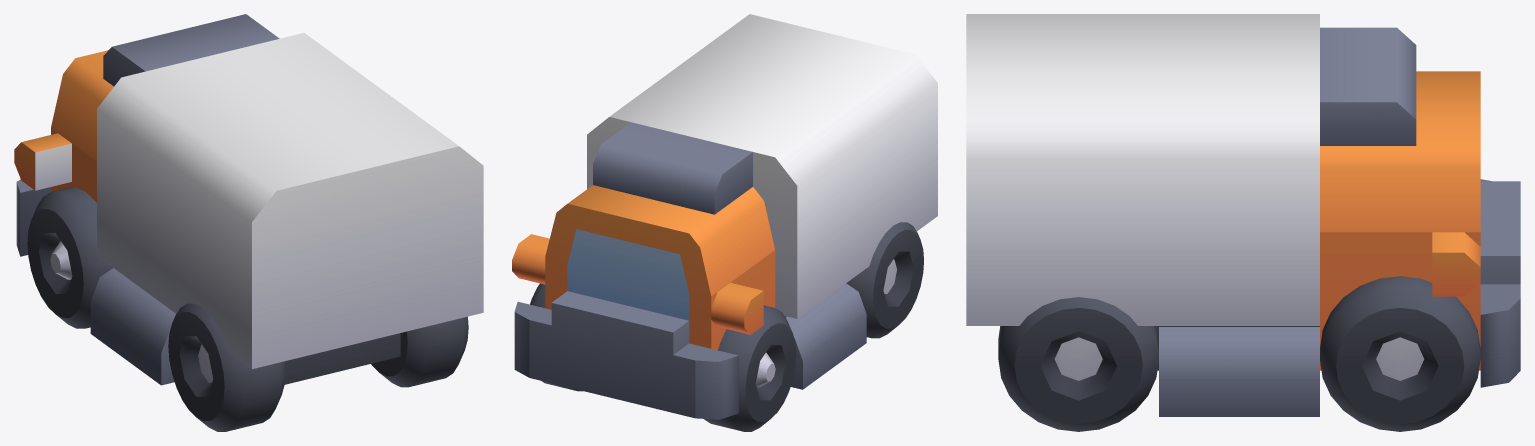
File: vehicle-truck.obj
3 renders of one model, left to right at view 1: azimuth 30°, elevation 25°; view 2: azimuth 150°, elevation 25°; view 3: azimuth 270°, elevation 25°, orthographic. The views are drawn at different scales.
Visible parts, largest first — view 1: vehicle-truck, wheel-bl, wheel-fl, wheel-br; view 2: vehicle-truck, wheel-fl, wheel-bl; view 3: vehicle-truck, wheel-fr, wheel-br.
Part boxes in pixels (x1,y1,x2,y2): vehicle-truck: (14,14,483,385); wheel-bl: (168,303,285,431); wheel-fl: (27,187,112,328); wheel-br: (371,316,468,387); vehicle-truck: (512,14,937,419); wheel-fl: (704,305,796,431); wheel-bl: (846,222,923,338); vehicle-truck: (966,14,1520,416); wheel-fr: (1320,276,1480,431); wheel-br: (998,297,1158,431).
Size of the model in its own units: 0.525 by 0.525 by 0.8625.
Materials: 1 (1 with a texture image).
